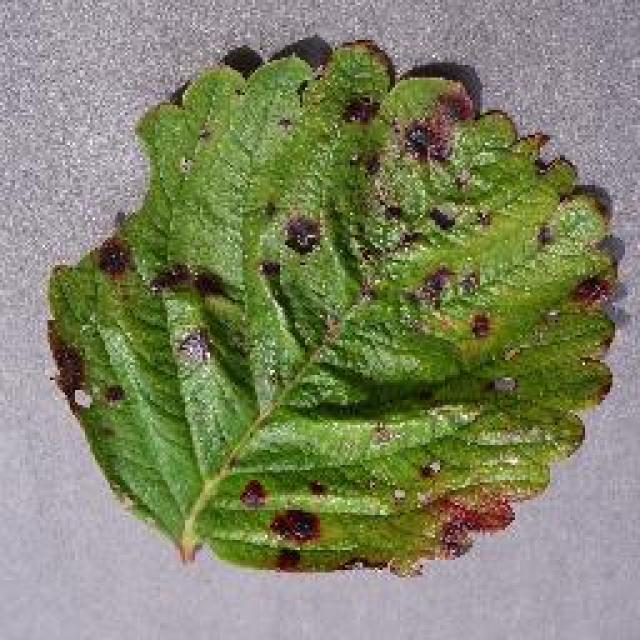Strawberry leaf scorch: (205, 128, 507, 380)
